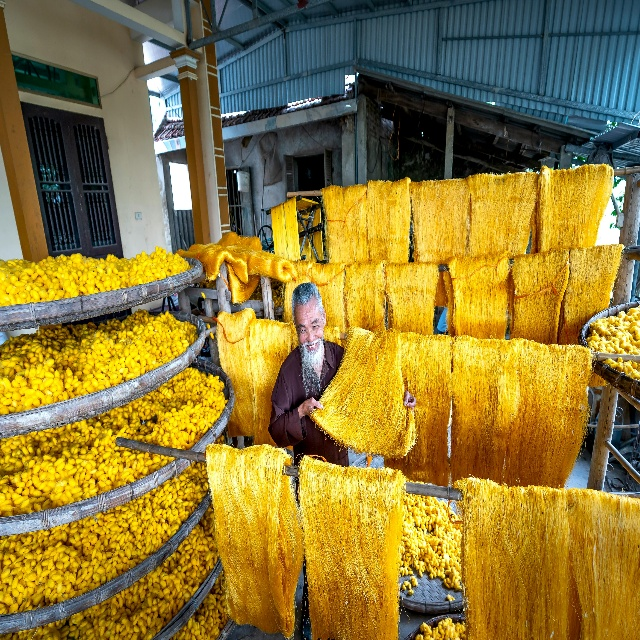Sin_guantes: (303, 398, 324, 419), (403, 389, 417, 412)
